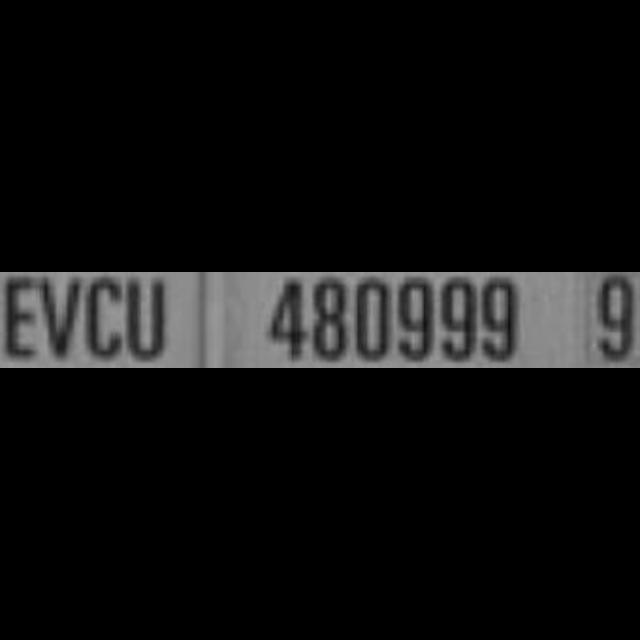0: (353, 272, 393, 368)
4: (263, 272, 311, 368)
8: (311, 272, 351, 368)
9: (592, 272, 640, 368), (394, 272, 440, 368), (438, 272, 480, 368), (480, 272, 522, 368)
c: (84, 272, 126, 368)
e: (0, 272, 40, 368)
u: (125, 272, 171, 368)
v: (38, 272, 82, 368)
